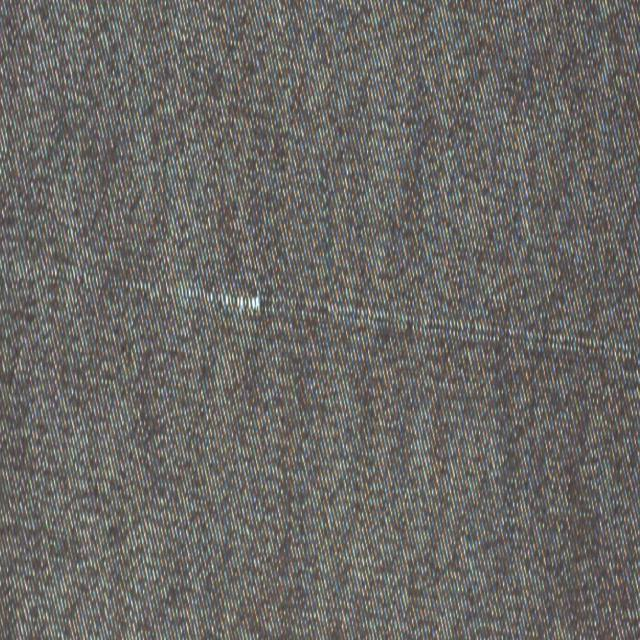Line: (57, 265, 640, 367)
